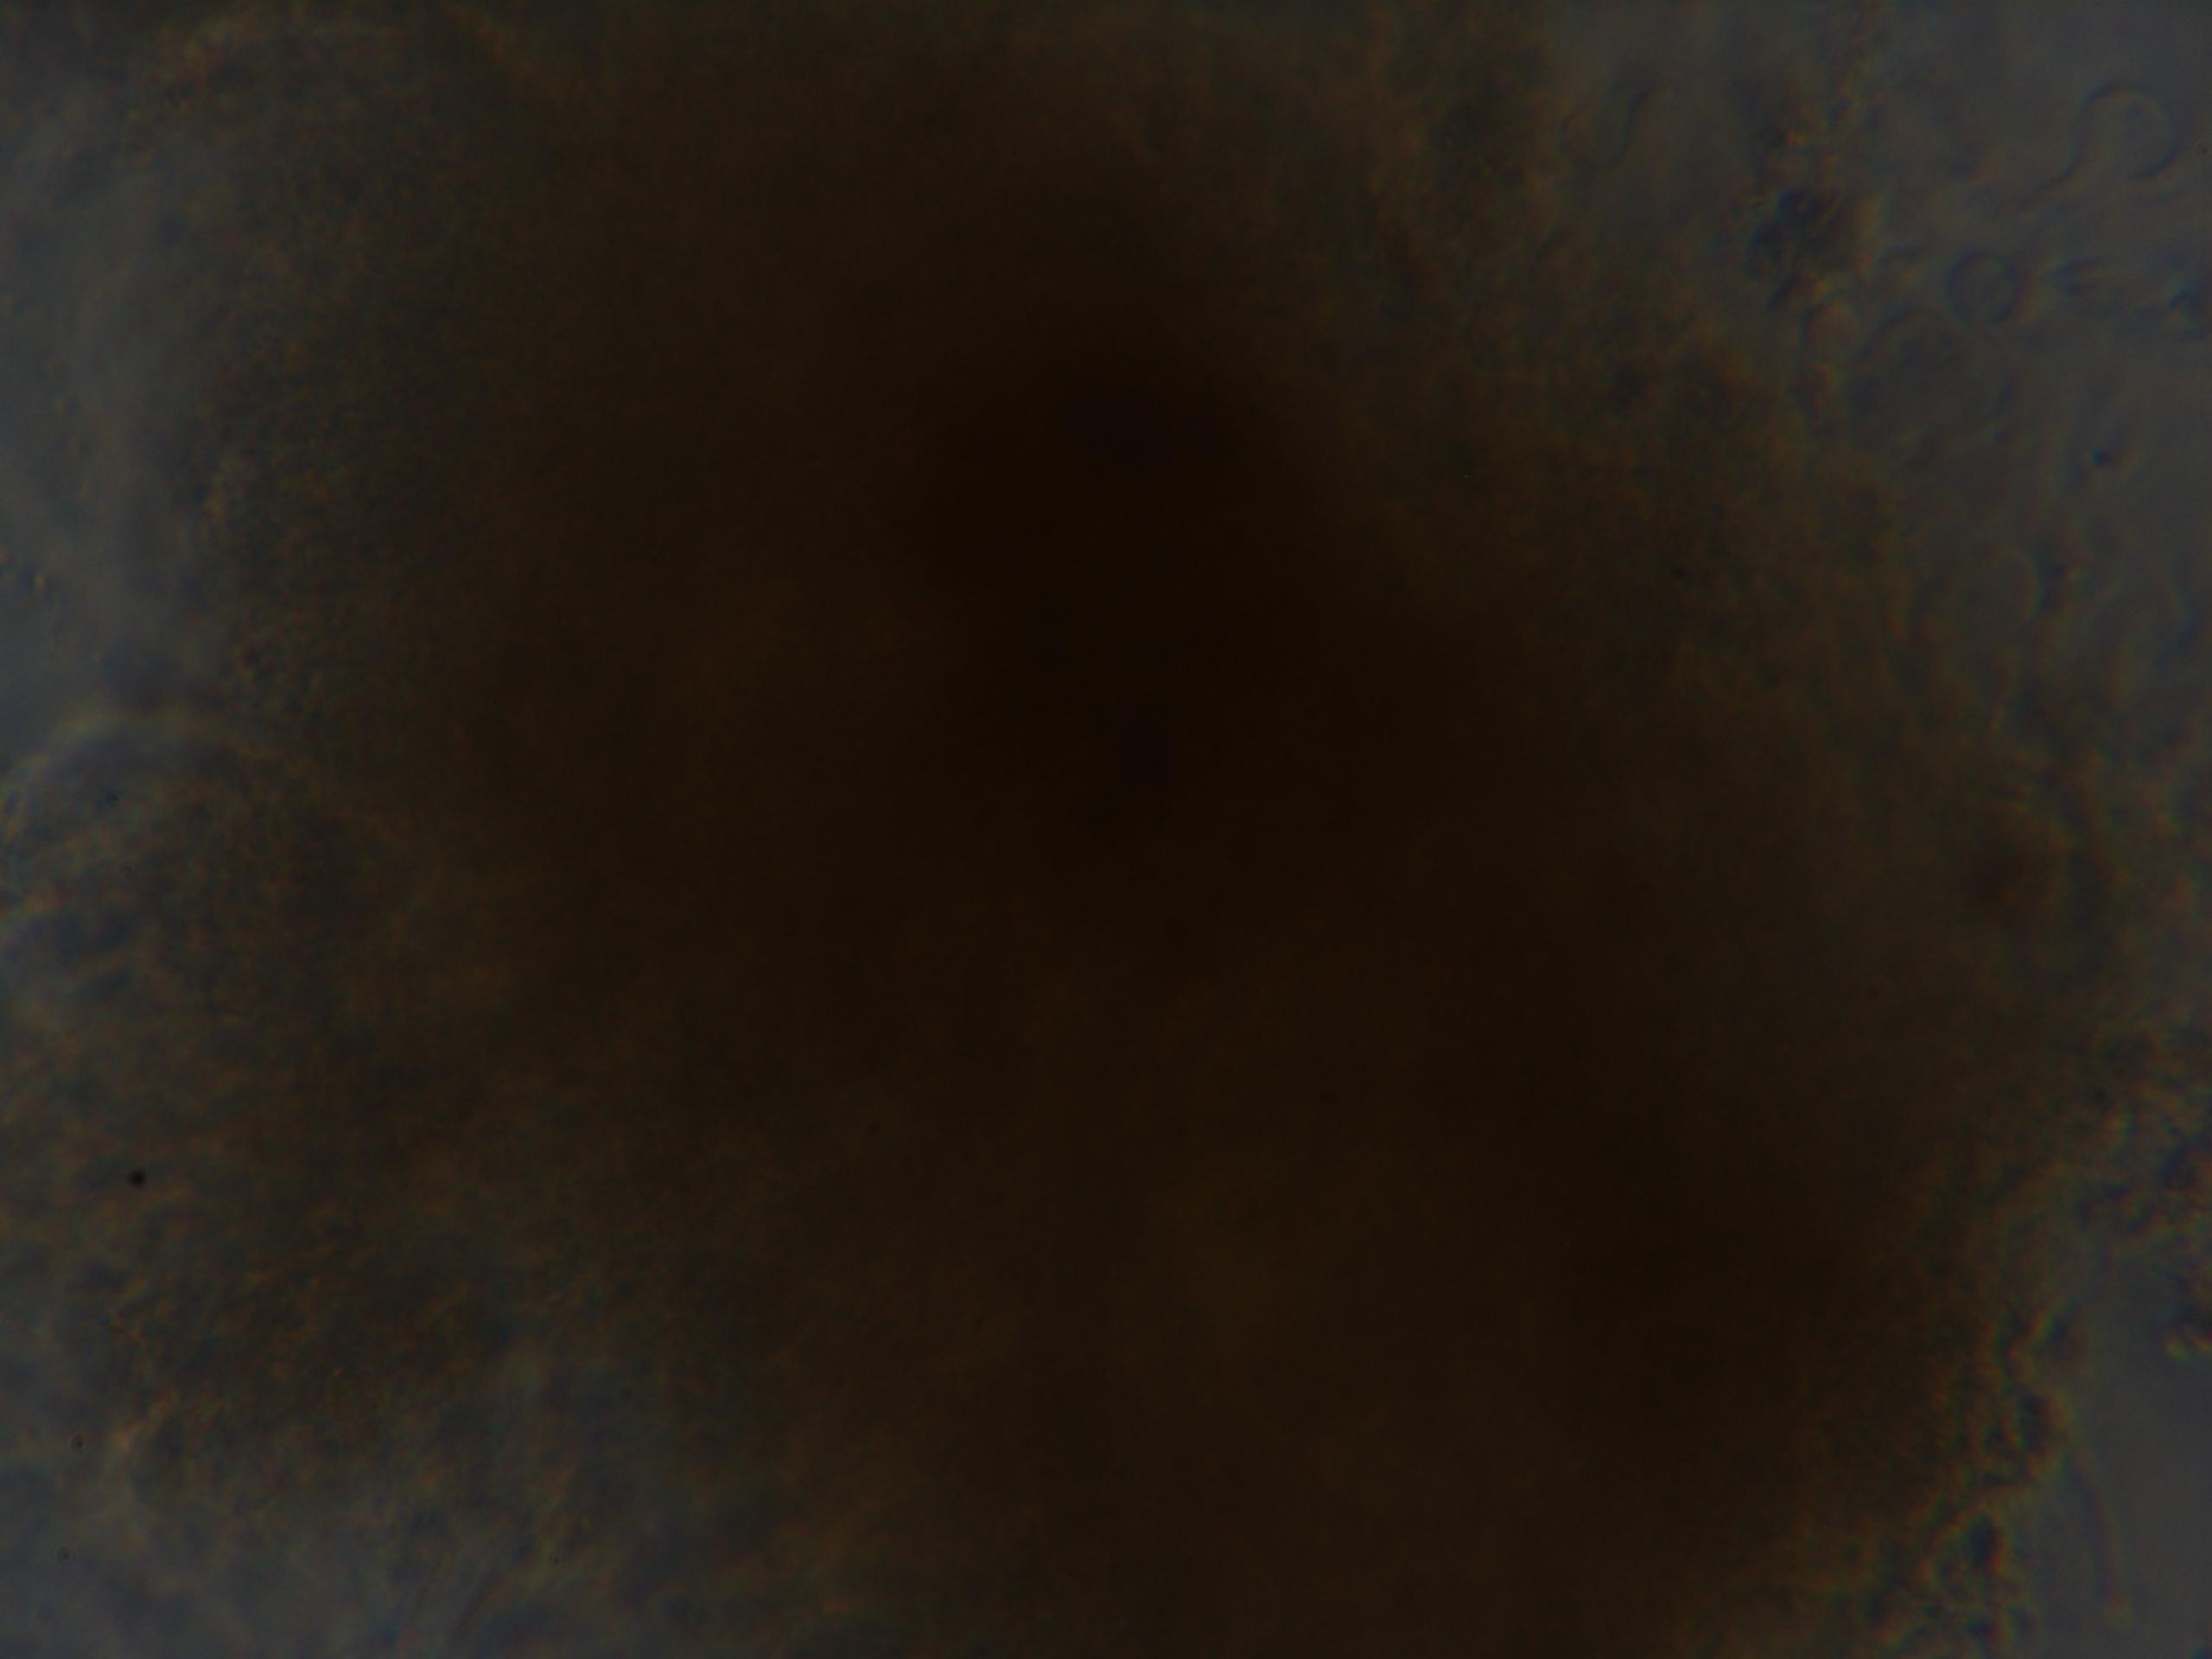spherical_floc: (171, 5, 2144, 1659)
